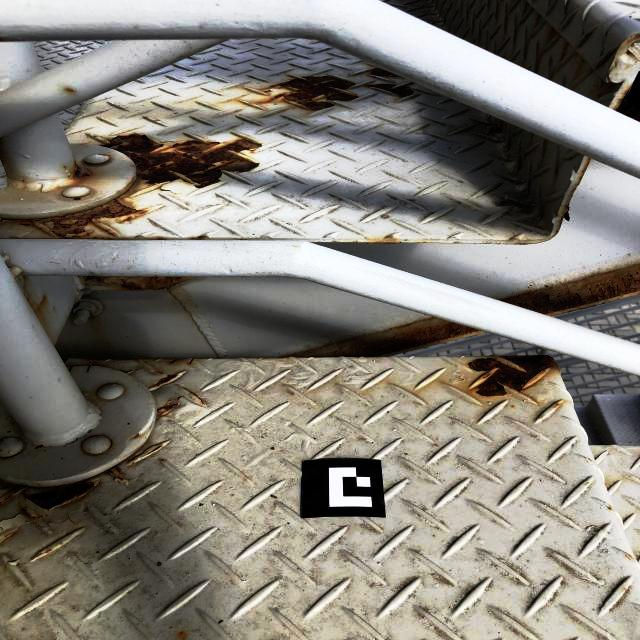Corrosion: (98, 134, 264, 194), (0, 176, 148, 240), (275, 316, 487, 359), (494, 261, 640, 317), (467, 355, 561, 404), (261, 75, 359, 112), (0, 478, 98, 512), (554, 157, 591, 236), (77, 276, 197, 291), (611, 85, 640, 122), (155, 394, 186, 421), (364, 84, 415, 98), (68, 156, 94, 183), (0, 507, 37, 524), (369, 67, 409, 81), (26, 294, 48, 319), (620, 33, 640, 59), (149, 372, 180, 388), (183, 387, 207, 405), (91, 434, 113, 452), (123, 447, 143, 466), (106, 465, 124, 481), (596, 53, 613, 69), (64, 192, 91, 201), (351, 240, 404, 244), (81, 359, 105, 367), (146, 445, 162, 455), (19, 275, 29, 290), (178, 358, 199, 365), (31, 549, 43, 561), (488, 125, 503, 134), (189, 234, 207, 240), (119, 369, 140, 374), (3, 530, 16, 538), (147, 236, 169, 240), (550, 27, 558, 36), (536, 13, 543, 23), (130, 433, 141, 439), (561, 46, 566, 59), (4, 259, 11, 268), (64, 87, 74, 93), (553, 402, 561, 409), (97, 153, 110, 157), (514, 242, 530, 245), (178, 631, 185, 637), (168, 360, 178, 364), (156, 369, 163, 374), (46, 548, 52, 553), (383, 236, 393, 239), (68, 366, 72, 373), (20, 178, 27, 182), (607, 506, 612, 511), (627, 554, 633, 558), (525, 2, 529, 7), (433, 443, 438, 447), (508, 142, 512, 147), (508, 238, 516, 240), (90, 312, 94, 316), (64, 165, 67, 169), (144, 361, 149, 363), (161, 459, 164, 462), (585, 34, 588, 37), (404, 239, 408, 241), (218, 357, 222, 359), (224, 355, 227, 357), (135, 359, 140, 360), (512, 405, 514, 407), (538, 416, 540, 417)
